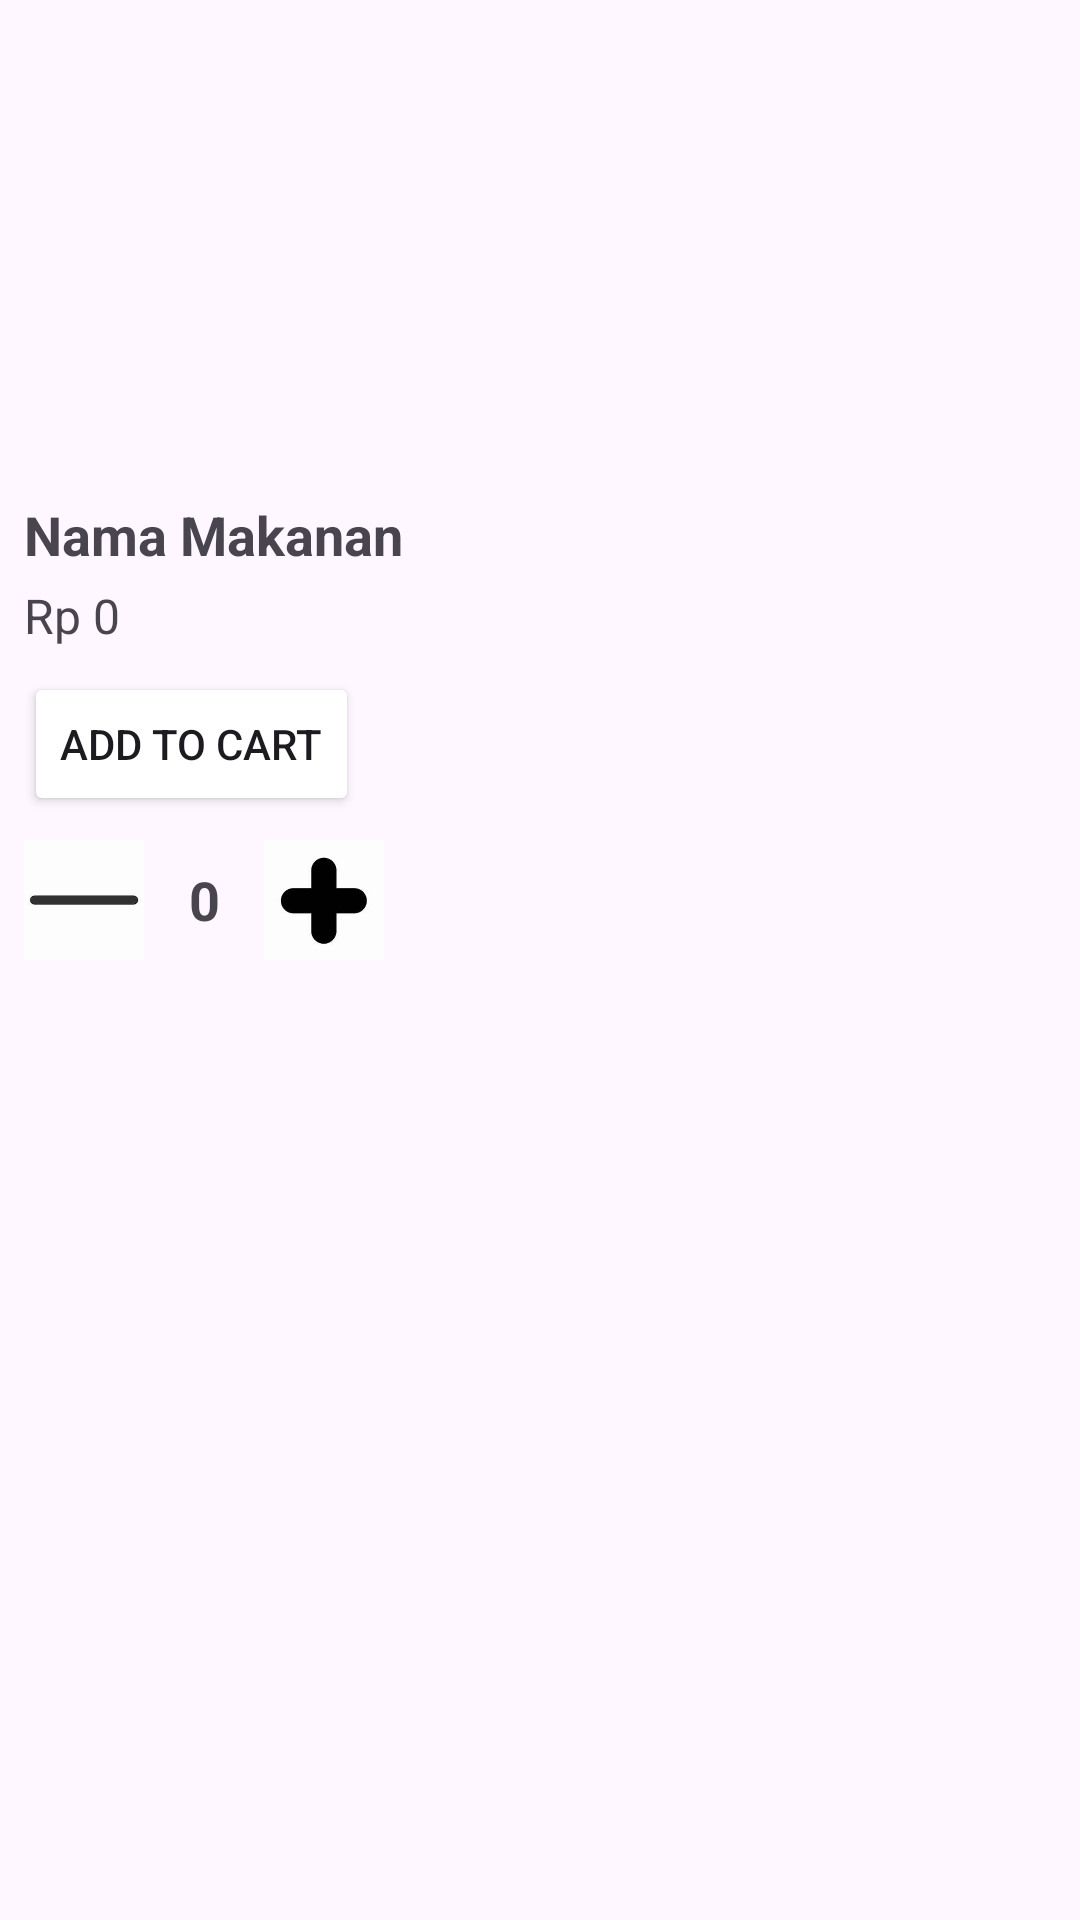

Named icons in this screenshot (1080w x 1920h) and their bounding boxes, (x1, y1, x2, y2):
Tambah Jumlah: (281, 857, 367, 944)
